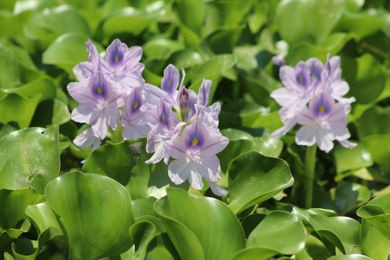water_hyacinth: (0, 37, 390, 260)
